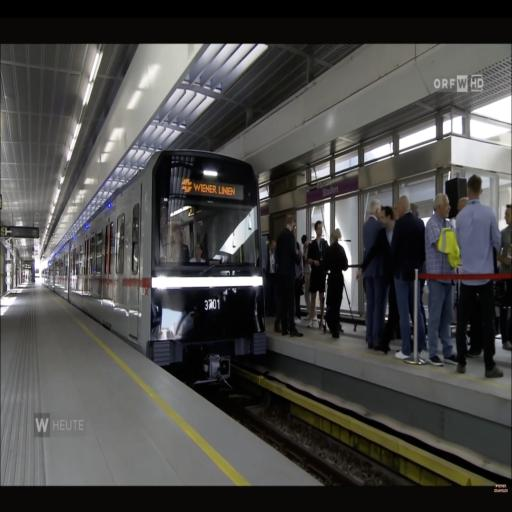X-Wagen: (42, 150, 266, 375)
